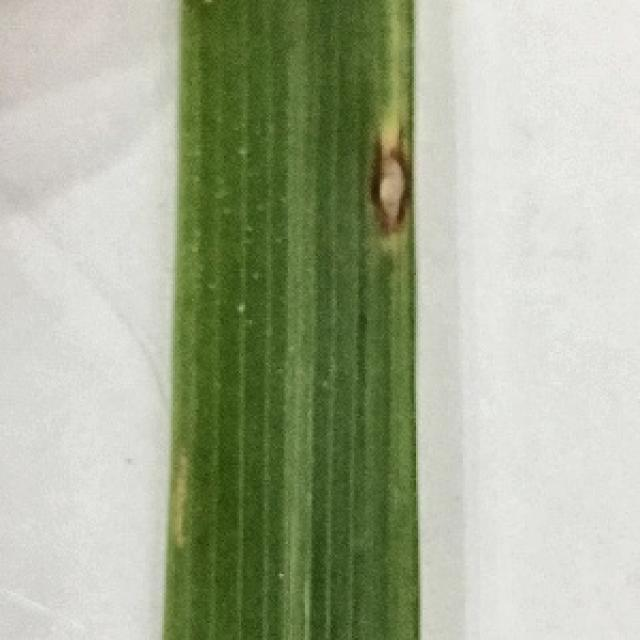Leaf_Blast: (348, 121, 412, 254)
